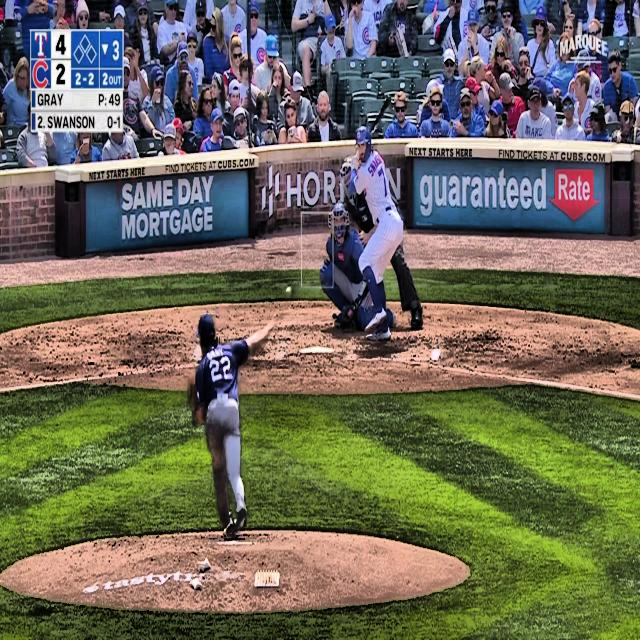baseball: (284, 284, 292, 296)
